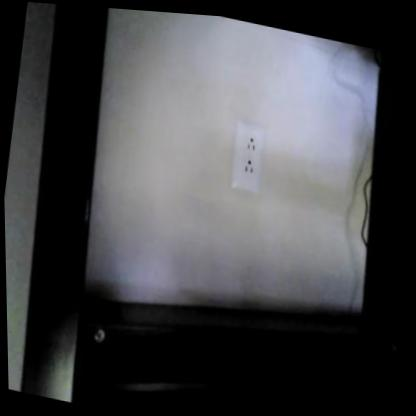OUTLET: (228, 118, 268, 195)
